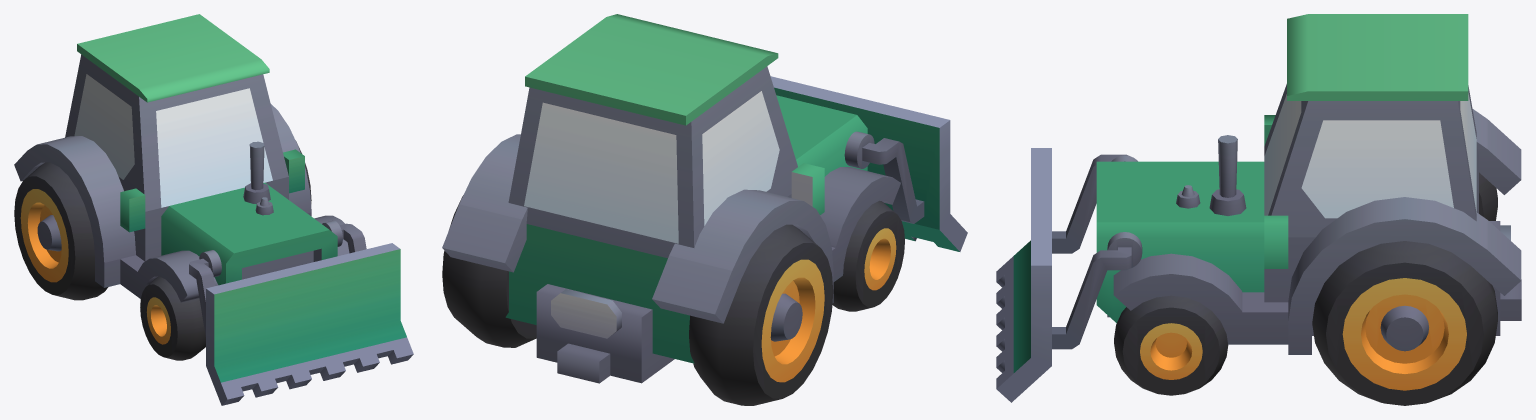
The model's file is k-car-tractor-shovel.glb.
3 renders of one model, left to right at view 1: azimuth 30°, elevation 25°; view 2: azimuth 150°, elevation 25°; view 3: azimuth 270°, elevation 25°, orthographic. The views are drawn at different scales.
Parts seen in each view (by area): view 1: body, shovel, wheel-back-right, wheel-front-right; view 2: body, wheel-back-right, shovel, wheel-front-right, wheel-back-left; view 3: body, wheel-back-left, shovel, wheel-front-left, wheel-back-right.
Boxes of the visible parts, x1=… form: body: x1=14, y1=14, x2=349, y2=302; shovel: x1=189, y1=220, x2=413, y2=405; wheel-back-right: x1=14, y1=162, x2=108, y2=300; wheel-front-right: x1=140, y1=276, x2=205, y2=360; body: x1=442, y1=14, x2=900, y2=383; wheel-back-right: x1=689, y1=224, x2=833, y2=405; shovel: x1=770, y1=76, x2=967, y2=251; wheel-front-right: x1=832, y1=200, x2=904, y2=311; wheel-back-left: x1=442, y1=195, x2=536, y2=347; body: x1=1096, y1=14, x2=1521, y2=354; wheel-back-left: x1=1312, y1=241, x2=1497, y2=405; shovel: x1=996, y1=148, x2=1142, y2=402; wheel-front-left: x1=1114, y1=295, x2=1228, y2=395; wheel-back-right: x1=1479, y1=172, x2=1497, y2=220.
Bounding box in the file's own units: 1.66 × 1.51 × 2.47.
Materials: 1 (1 with a texture image).
